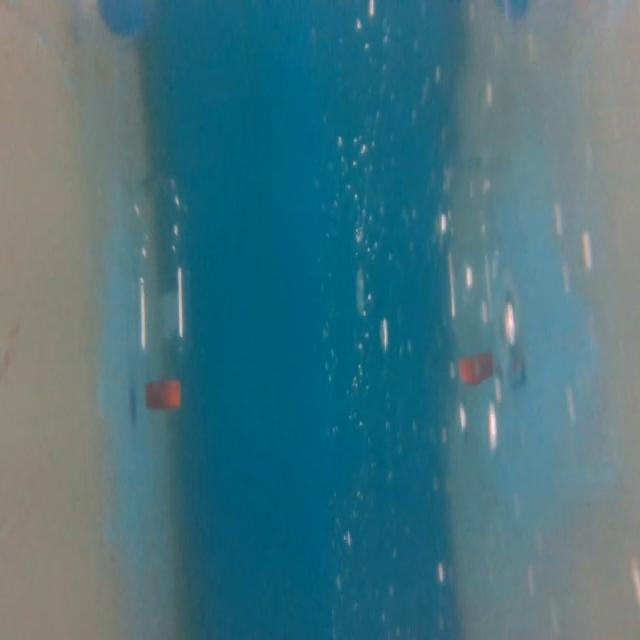plastic bottle: (127, 167, 200, 416)
